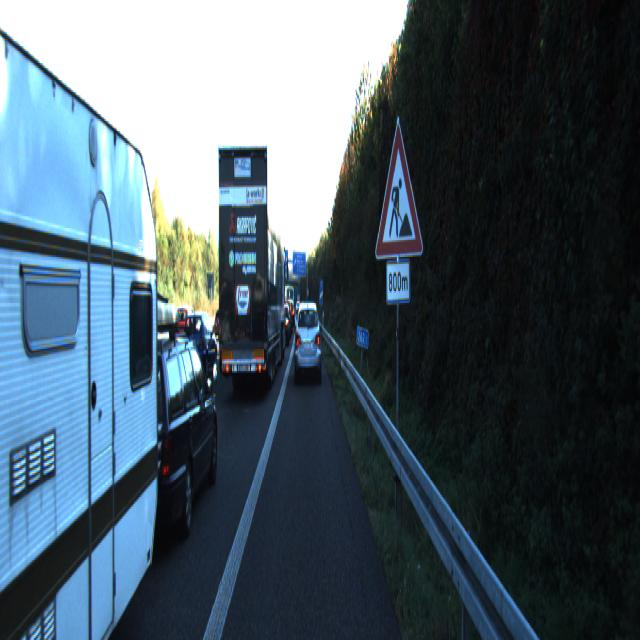Car: (0, 0, 165, 639), (96, 332, 220, 565), (218, 140, 285, 398), (181, 309, 218, 379), (294, 300, 322, 383), (172, 300, 201, 354), (275, 308, 291, 346)
